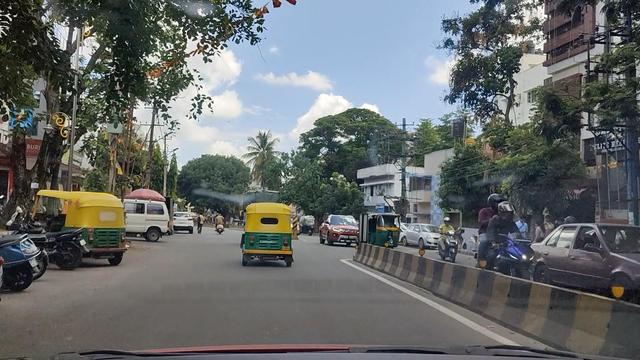LMV: (39, 191, 124, 266), (244, 204, 295, 262)
